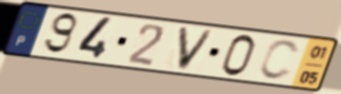0: (220, 33, 258, 77)
2: (124, 23, 165, 68)
4: (76, 15, 112, 63)
9: (40, 12, 80, 57)
C: (256, 38, 302, 83)
V: (175, 25, 218, 73)
